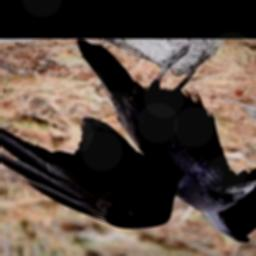Crow: (0, 42, 256, 245)
